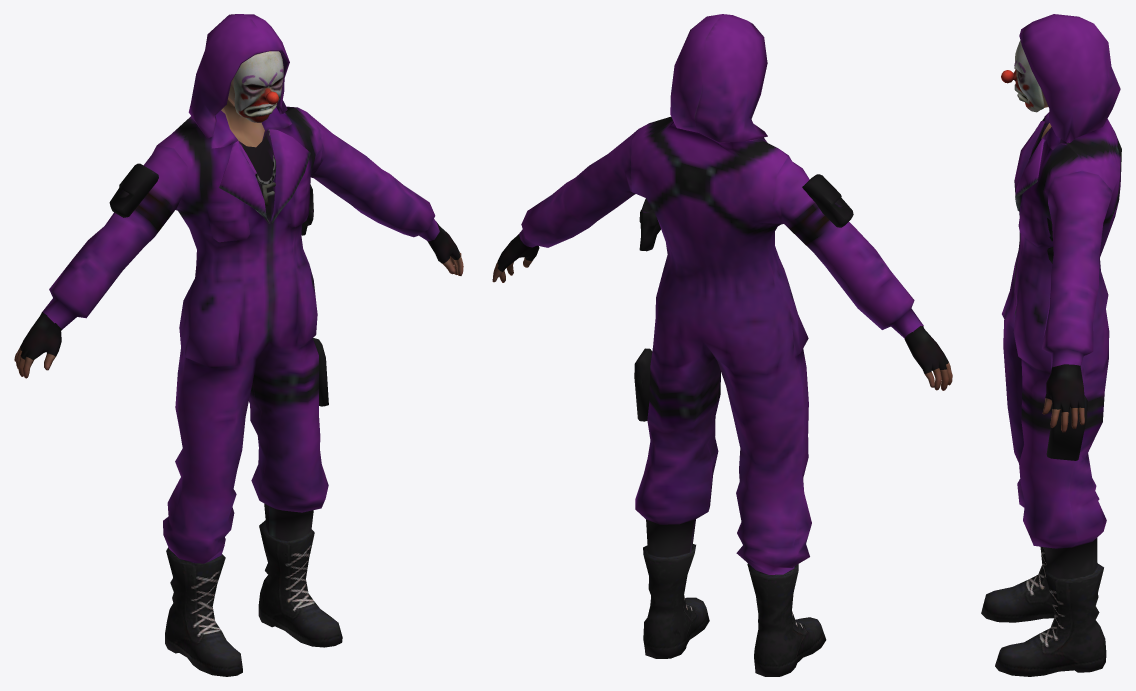
File: Top_Criminal_Purple.FBX
3 renders of one model, left to right at view 1: azimuth 30°, elevation 25°; view 2: azimuth 150°, elevation 25°; view 3: azimuth 270°, elevation 25°, orthographic. The views are drawn at different scales.
Visible parts, largest first — view 1: Purple; view 2: Purple; view 3: Purple.
Part boxes in pixels (x1,y1,x2,y2): Purple: [14, 14, 463, 676]; Purple: [492, 14, 952, 676]; Purple: [981, 14, 1121, 676].
Bounding box in the file's own units: 1.37 × 1.85 × 0.3766.
